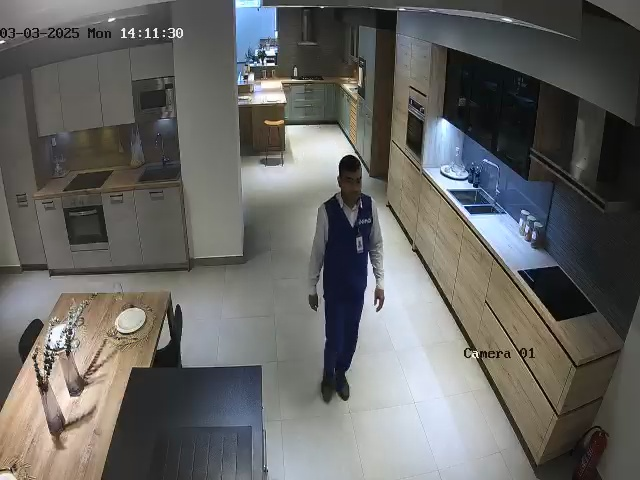employee: (307, 154, 385, 403)
